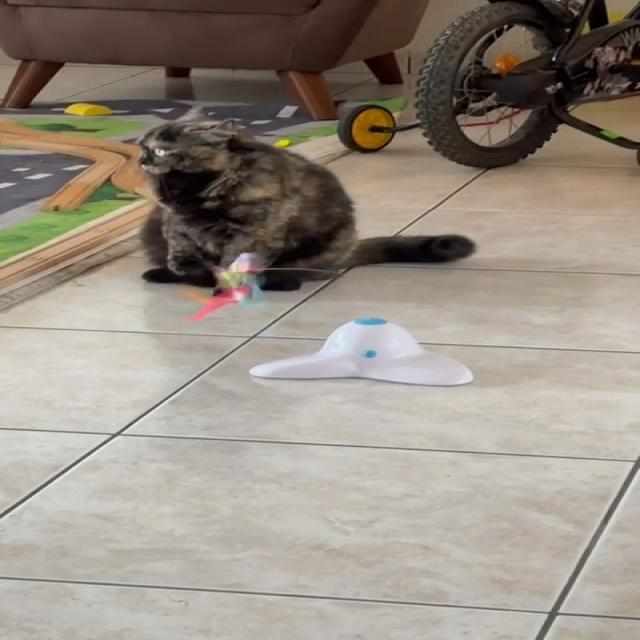authorized: (133, 105, 476, 291)
